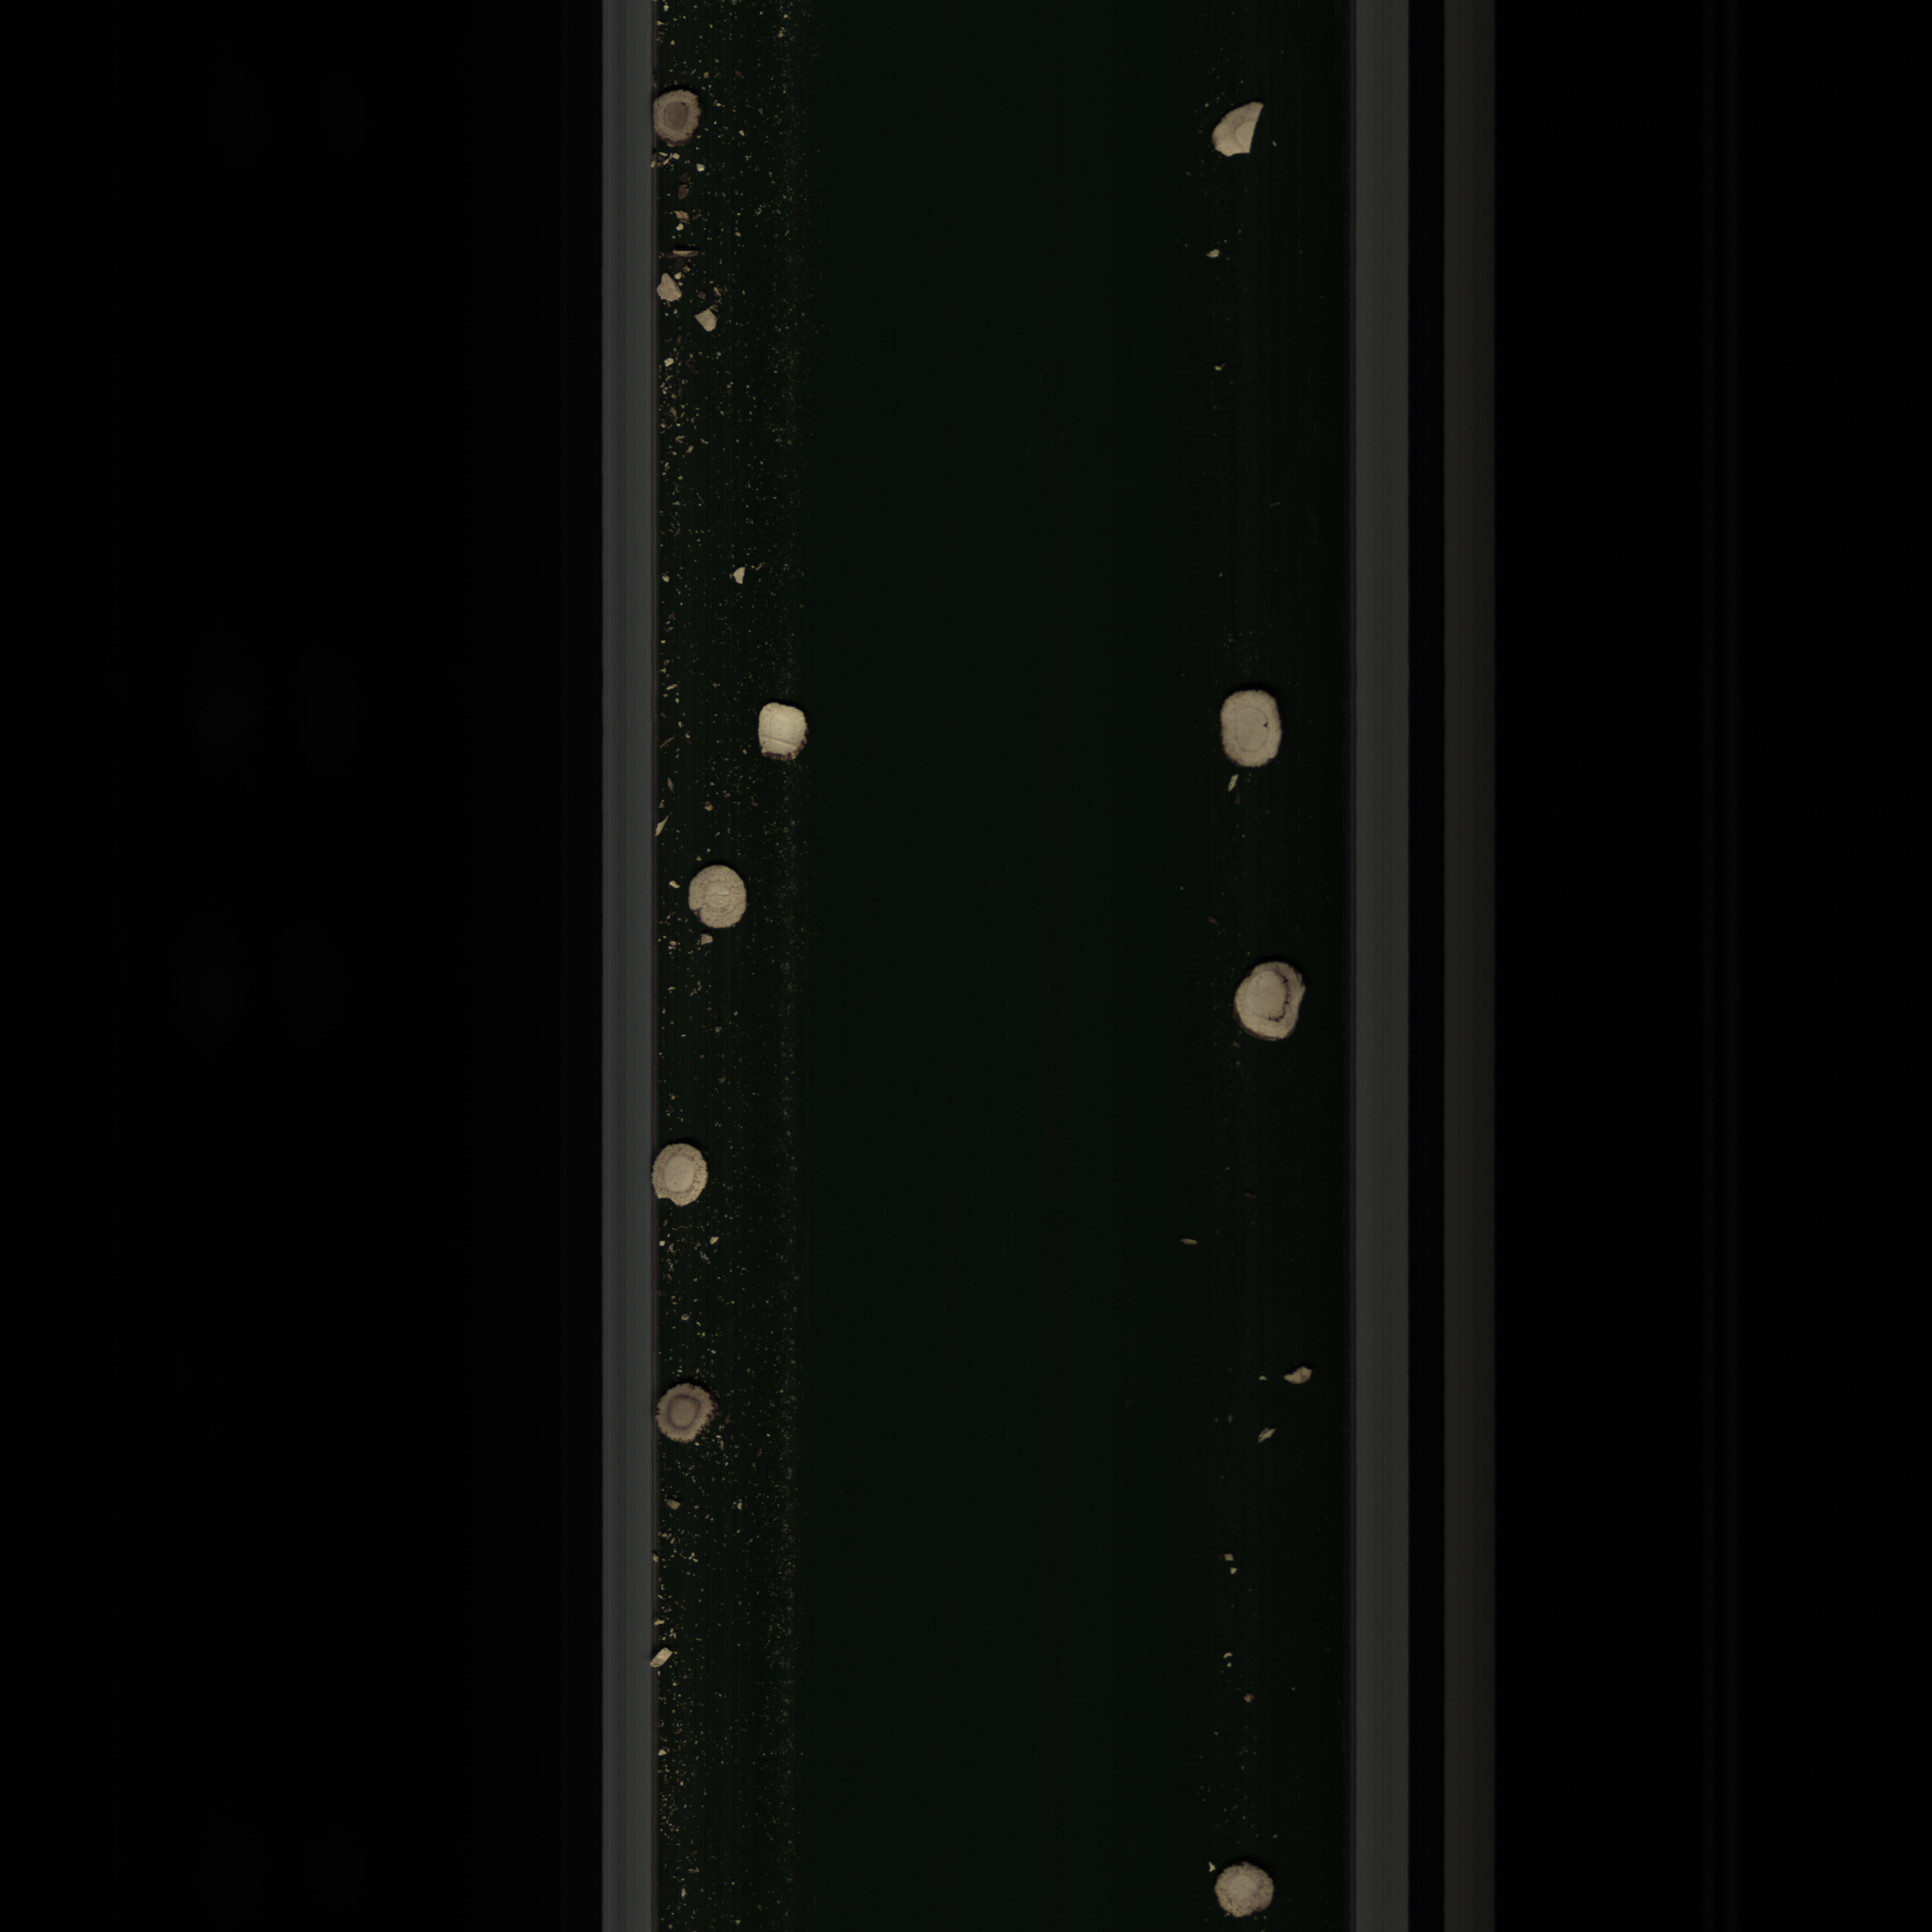debris: (1198, 97, 1286, 165), (656, 265, 690, 308), (692, 304, 734, 336)
moldy: (1230, 952, 1325, 1051), (656, 1375, 727, 1451), (653, 85, 713, 152)
